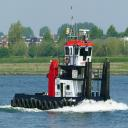tugboat: (11, 29, 113, 113)
